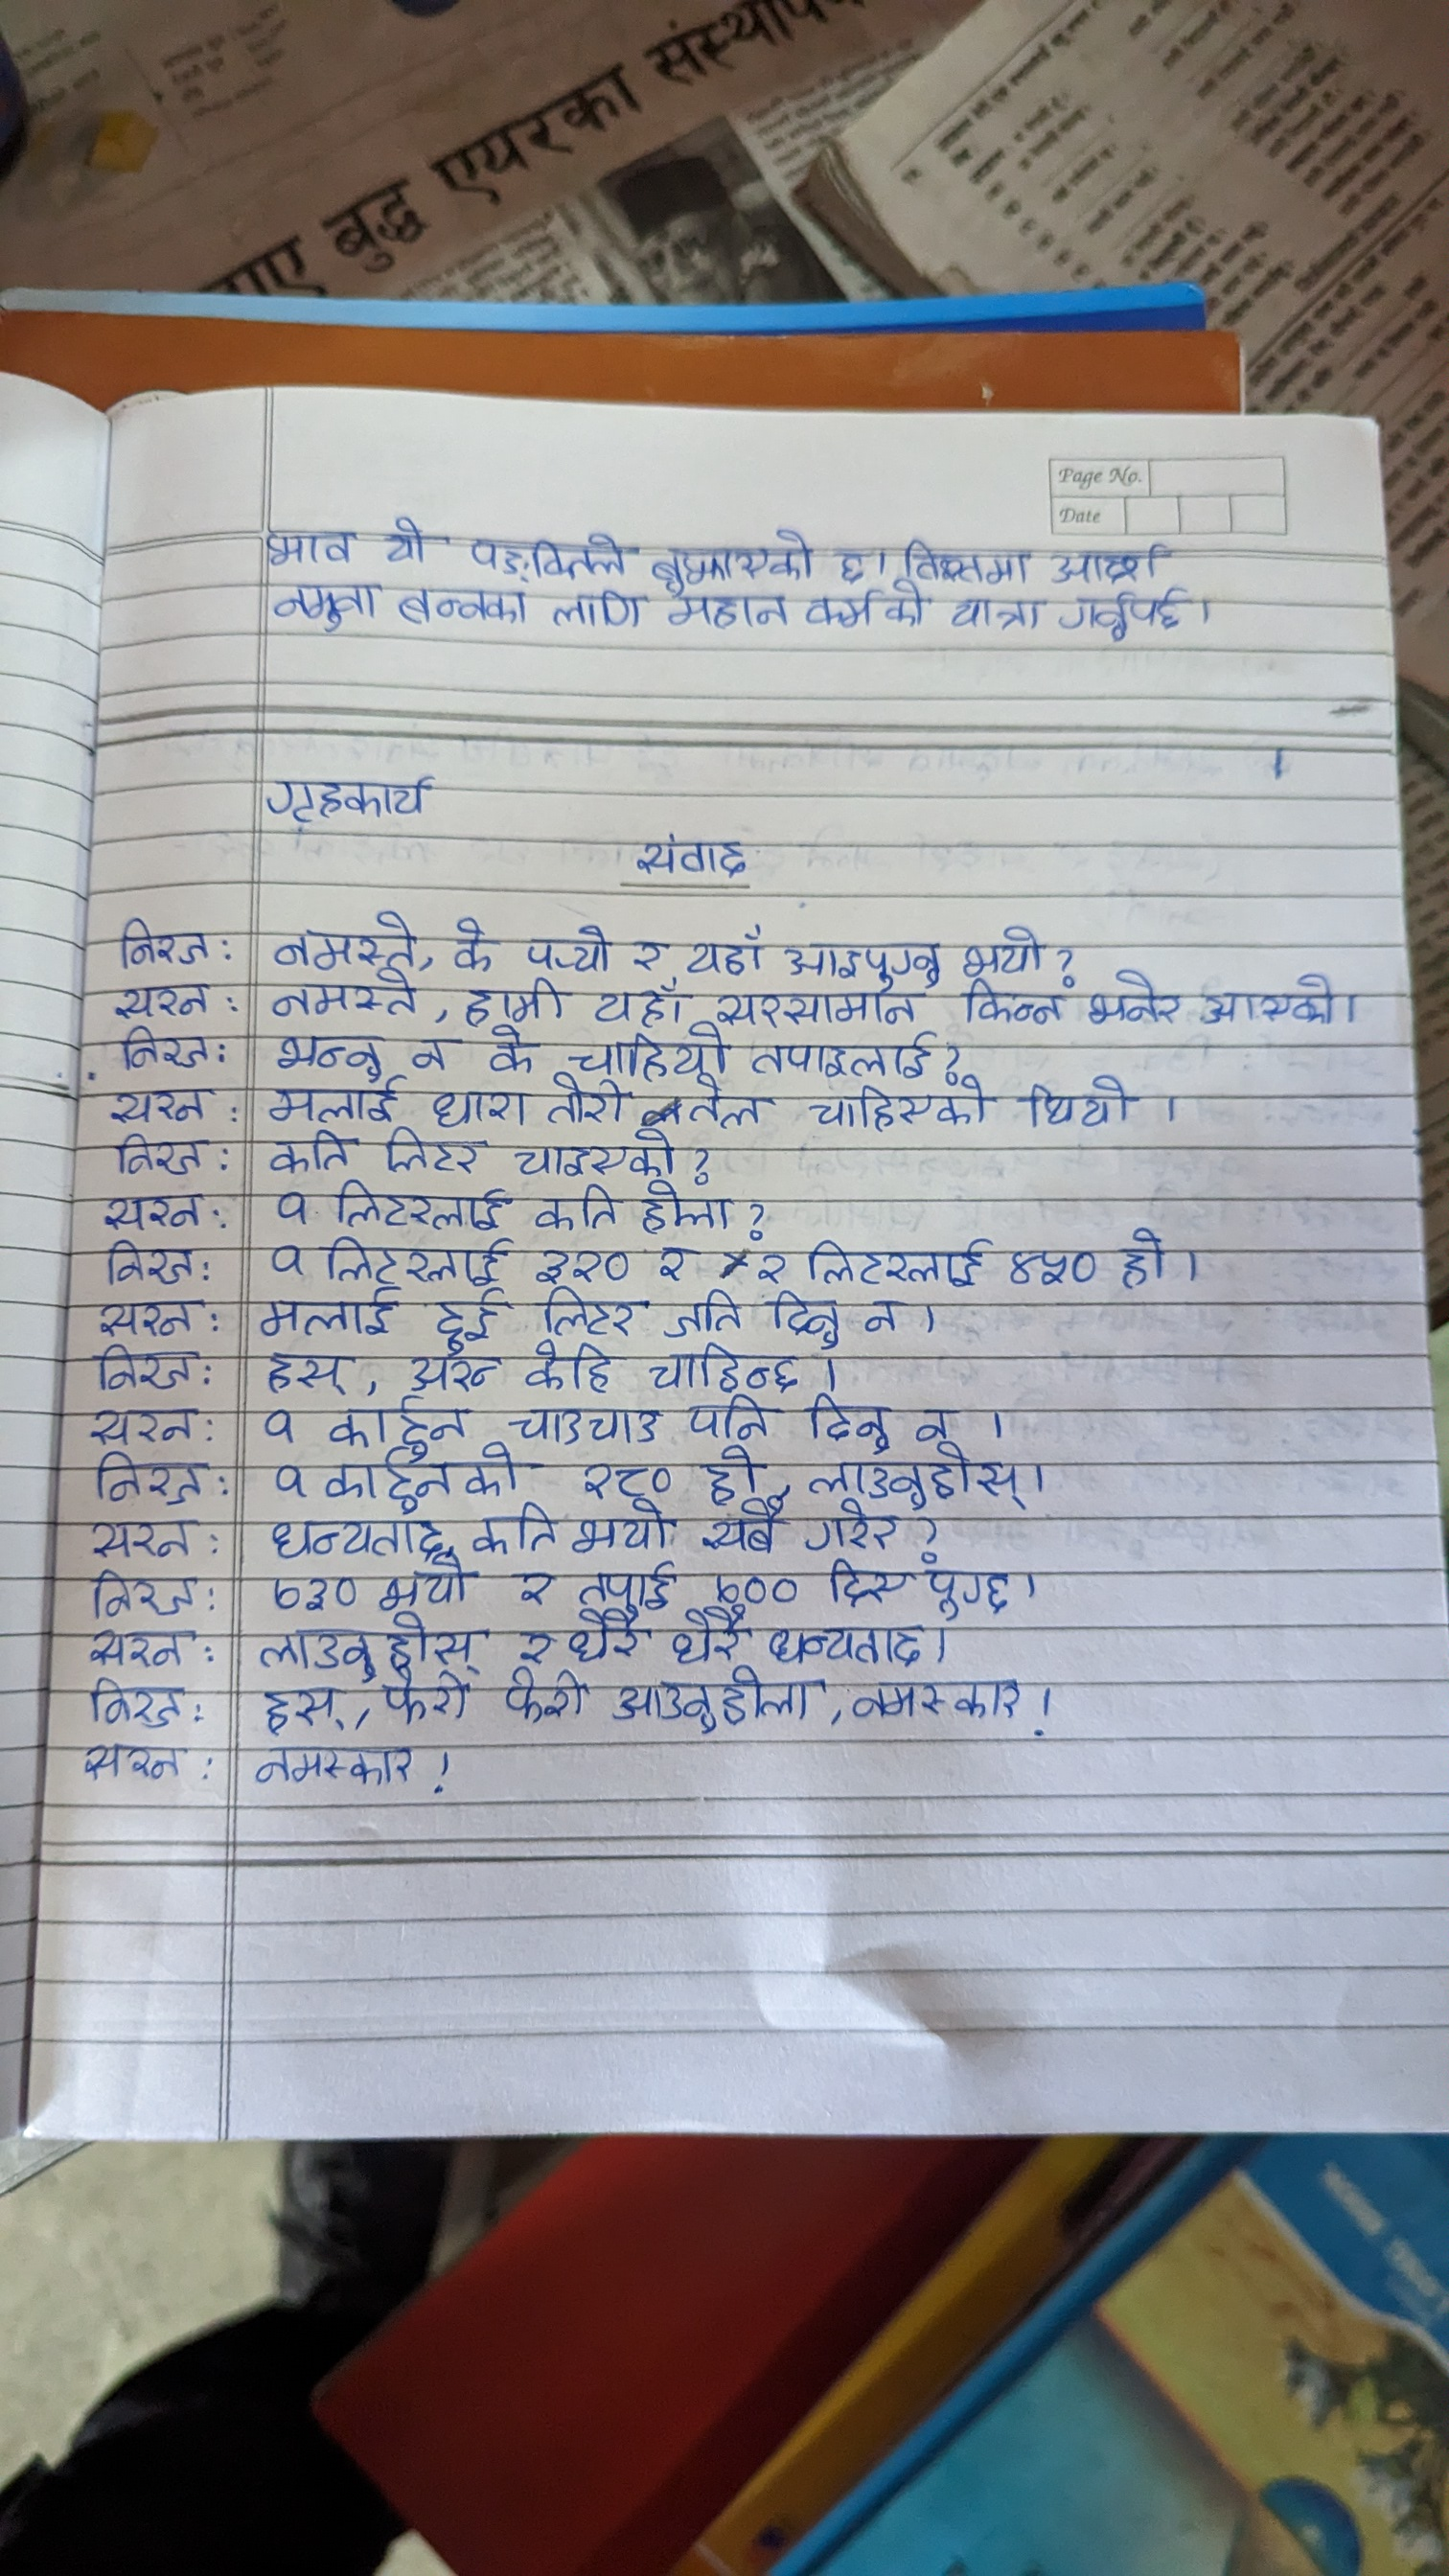text: (257, 1615, 490, 1674), (600, 1674, 833, 1732), (253, 768, 448, 833), (807, 1081, 1001, 1141), (803, 1235, 993, 1293), (803, 1454, 1030, 1502), (324, 1453, 511, 1509), (327, 1180, 513, 1237), (653, 527, 816, 591), (246, 1739, 430, 1794), (748, 1031, 943, 1079), (272, 911, 430, 970), (258, 1513, 456, 1559), (320, 1238, 508, 1286), (267, 970, 425, 1026), (717, 985, 925, 1028), (327, 1398, 481, 1451), (469, 533, 633, 582), (510, 1132, 674, 1182), (644, 1343, 801, 1394), (244, 1288, 402, 1339), (566, 1030, 734, 1077), (1021, 1076, 1161, 1132), (1200, 973, 1338, 1030), (855, 1677, 1023, 1721), (787, 939, 945, 985), (893, 538, 1033, 587), (1053, 586, 1192, 635), (763, 1624, 925, 1667), (1047, 536, 1189, 584), (260, 1028, 386, 1081), (807, 591, 929, 644), (628, 832, 750, 885), (510, 1405, 667, 1445), (271, 580, 379, 637), (395, 587, 536, 630), (267, 1085, 402, 1129), (955, 925, 1065, 978), (922, 1566, 1030, 1619), (1081, 970, 1182, 1026), (108, 918, 218, 970), (108, 973, 218, 1024), (108, 1026, 218, 1077), (104, 1131, 214, 1182), (101, 1237, 211, 1288), (88, 1343, 198, 1394), (90, 1451, 200, 1502), (87, 1683, 196, 1734), (957, 982, 1067, 1033), (83, 1568, 193, 1617), (683, 916, 775, 975), (524, 916, 614, 975), (520, 1339, 623, 1391), (248, 1350, 361, 1396), (662, 593, 800, 630), (939, 593, 1051, 639), (258, 1132, 370, 1178), (375, 1560, 474, 1612), (94, 1295, 205, 1339), (87, 1401, 198, 1445), (87, 1516, 198, 1560), (85, 1626, 196, 1670), (630, 1185, 741, 1230), (575, 1506, 671, 1557), (697, 1504, 793, 1555), (807, 1504, 902, 1555), (379, 1675, 467, 1730), (499, 1668, 587, 1723), (1115, 1219, 1177, 1297), (377, 1132, 490, 1175), (686, 1444, 771, 1500), (258, 524, 363, 570), (805, 1398, 892, 1453), (106, 1083, 218, 1125), (101, 1191, 212, 1233), (81, 1739, 191, 1782), (458, 980, 568, 1023), (251, 1686, 345, 1736), (547, 589, 646, 635), (541, 1077, 626, 1131), (568, 1608, 648, 1665), (589, 980, 686, 1026), (432, 1085, 529, 1131), (425, 1292, 508, 1345), (538, 1290, 633, 1336), (671, 1612, 750, 1667), (824, 1559, 904, 1614), (527, 1185, 617, 1233), (683, 1083, 766, 1134), (540, 1238, 628, 1286), (1003, 1244, 1092, 1292), (575, 1562, 674, 1605), (269, 1568, 356, 1615), (407, 1352, 497, 1396), (702, 1568, 807, 1605), (579, 1460, 669, 1502), (683, 1398, 773, 1440), (471, 1509, 561, 1552), (663, 1290, 743, 1338), (449, 915, 495, 971), (626, 918, 672, 975), (860, 1295, 911, 1345), (255, 1454, 308, 1502), (508, 1566, 561, 1614), (384, 517, 428, 570), (253, 1403, 299, 1453), (830, 536, 874, 587), (508, 1621, 559, 1665), (911, 1398, 957, 1444), (271, 1187, 315, 1235), (264, 1233, 308, 1281), (648, 1238, 692, 1286), (745, 1244, 789, 1292), (409, 1031, 448, 1081), (490, 1024, 529, 1074)
